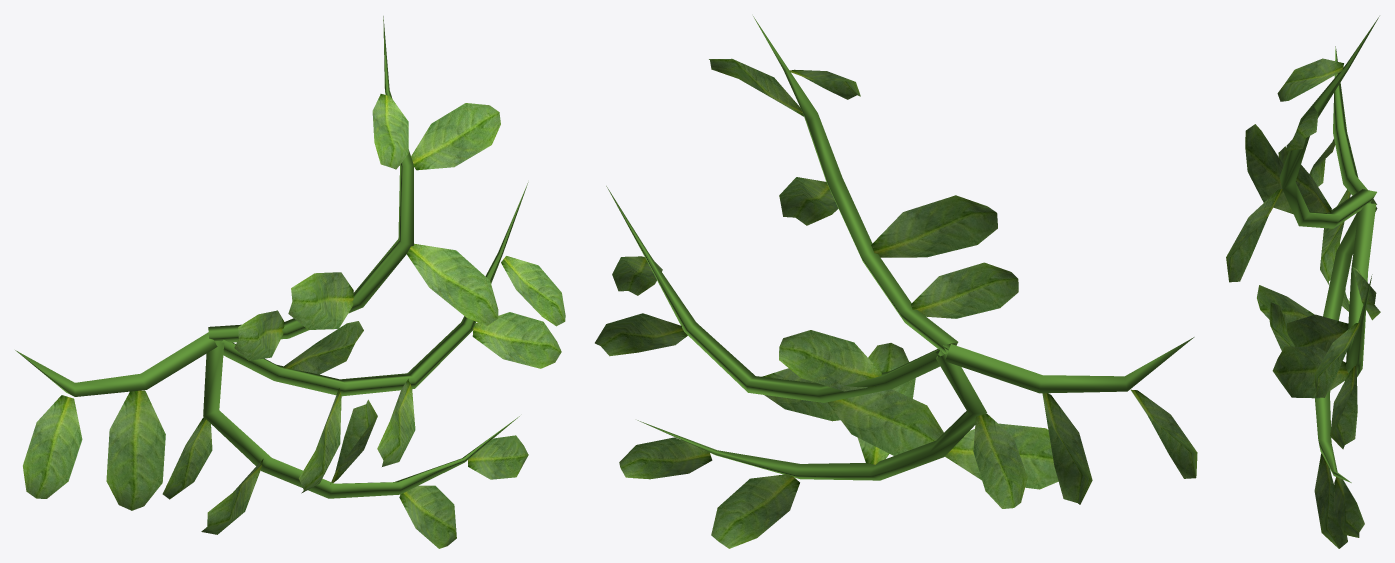
Rendered from polygonum_04.obj.
3 views of the same model, side by side, from view 1: azimuth 30°, elevation 25°; view 2: azimuth 150°, elevation 25°; view 3: azimuth 270°, elevation 25° (orthographic). The views are drawn at different scales.
Visible parts, largest first — view 1: polygonum.003; view 2: polygonum.003; view 3: polygonum.003.
Part boxes in pixels (<box>): polygonum.003: <box>15,16,565,548</box>; polygonum.003: <box>595,16,1197,548</box>; polygonum.003: <box>1226,16,1380,548</box>.
Size of the model in its own units: 0.2552 by 0.2325 by 0.0634.
1 material, 1 textured.
